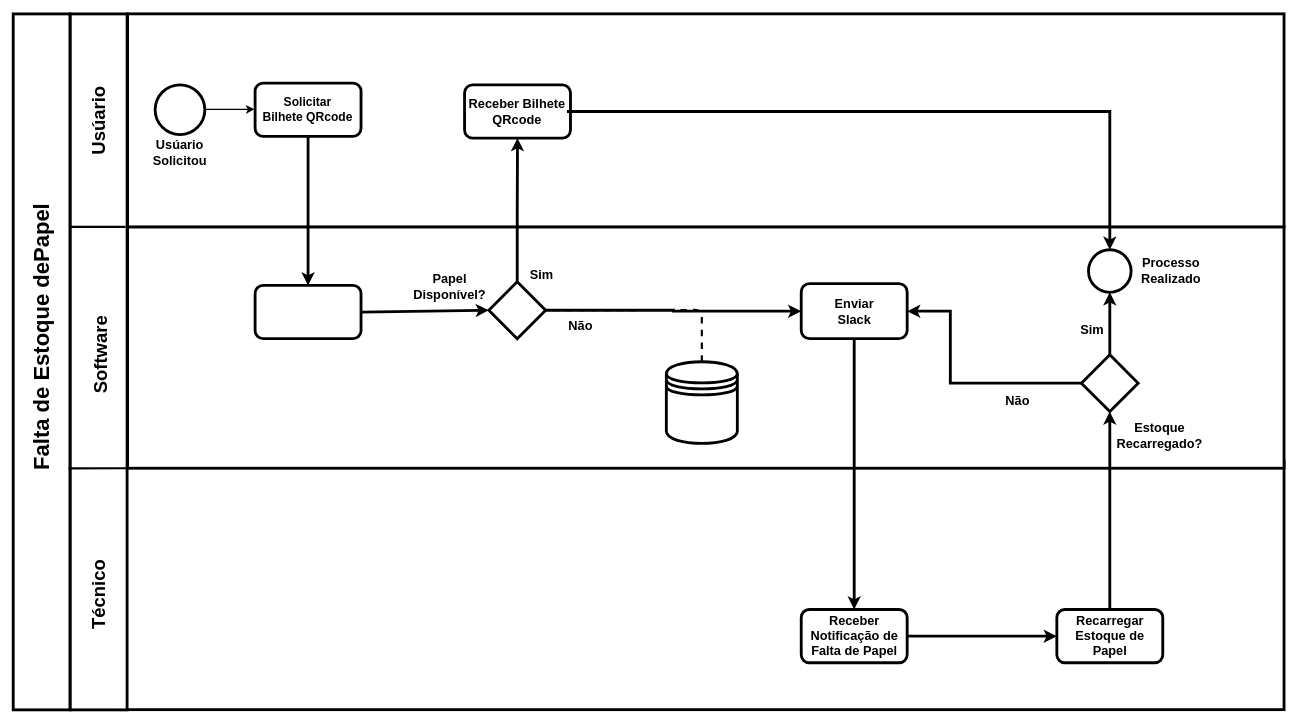
This 1298x723 diagram has some shape labels left out. The shapes that lost their labels are listed below. From the top down, each one's centre as x and y in pixels, then its label:
At (307,312): "Ler a Tela".
At (701,402): "Guardar Informação no Banco".
